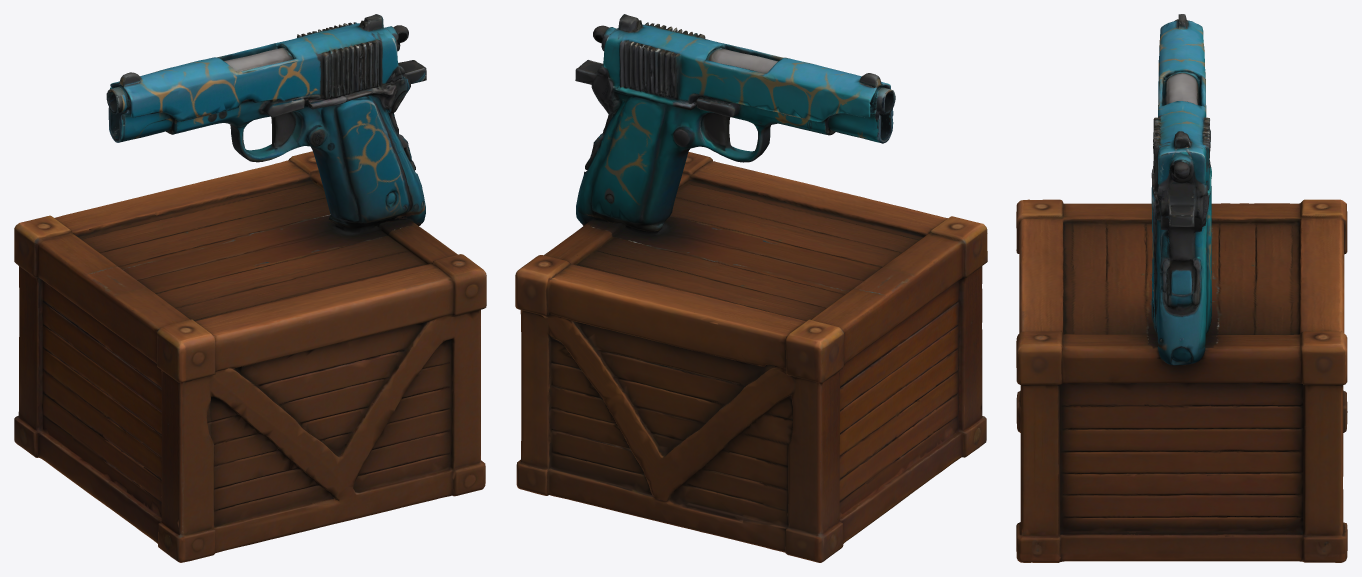
The model's file is Volcanic_Veins_compressed.glb.
3 views of the same model, side by side, from view 1: azimuth 30°, elevation 25°; view 2: azimuth 150°, elevation 25°; view 3: azimuth 270°, elevation 25° (orthographic).
Size of the model in its own units: 1.61 by 1.99 by 1.43.
1 material, 1 textured.
